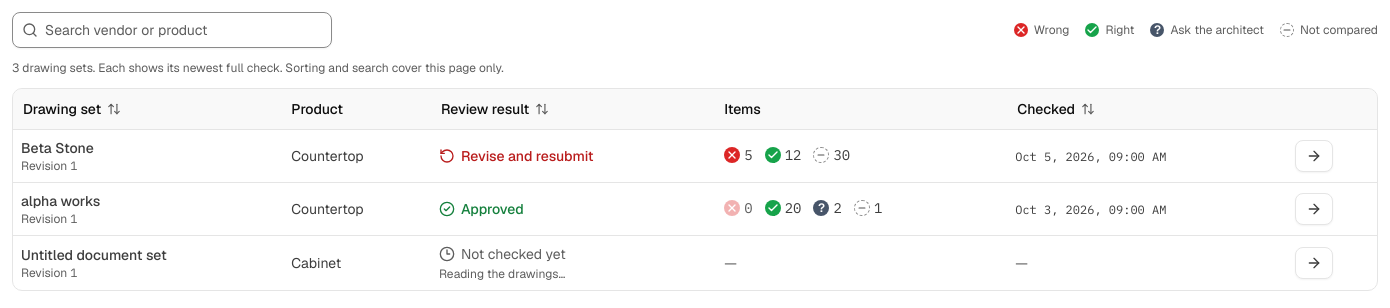
Test: DocumentsTable › searches by vendor or product and says how many match
expect the text "Sorting and search cover this page only." is shown: met, box [282,60,504,76]
Type "cabinet" into the search field labelled "Search vendor or product". click: (172, 30)
box: [12,12,332,48]
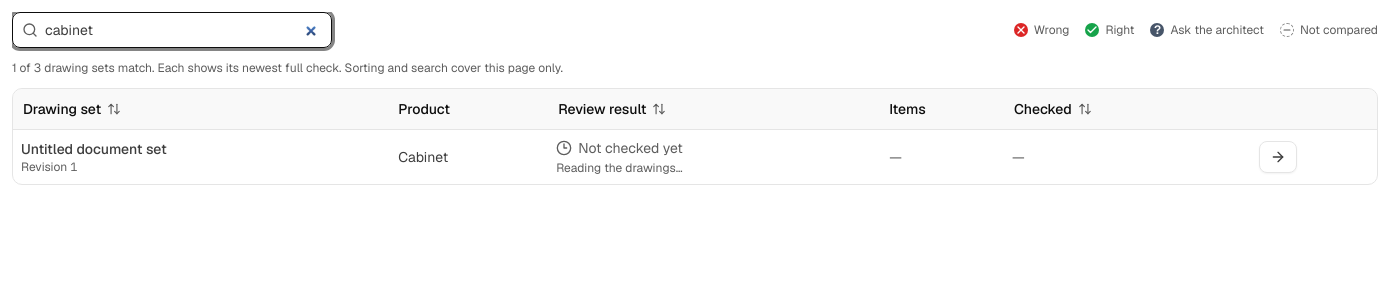
expect the text "1 of 3 drawing sets match." is shown: met, box [12,60,154,76]
Replace the text in the search field with "nothing like this". click: (172, 30)
box: [12,12,332,48]
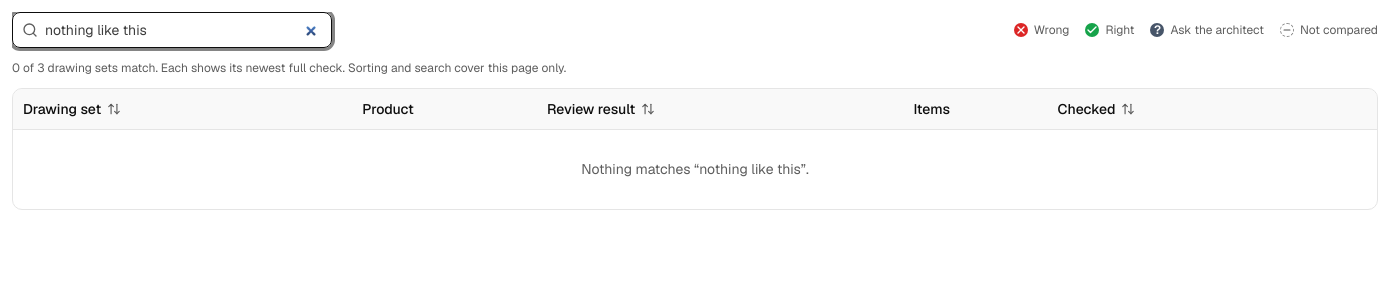
expect the text "Nothing matches “nothing like this”." is shown: met, box [13,129,1377,209]
